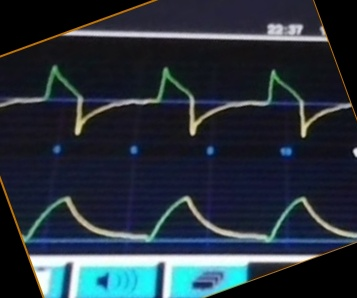Normal Flow: (1, 58, 335, 140)
Normal Volume: (25, 189, 349, 245)
